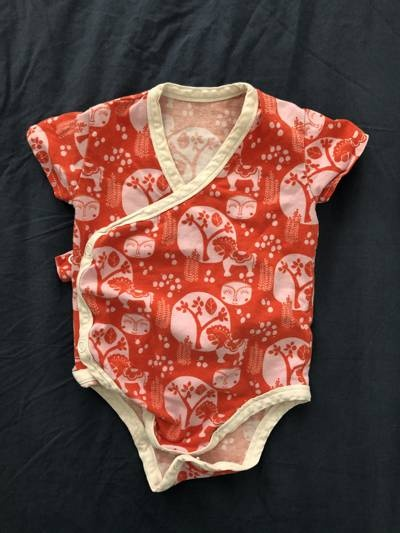Body: (31, 80, 359, 497)
